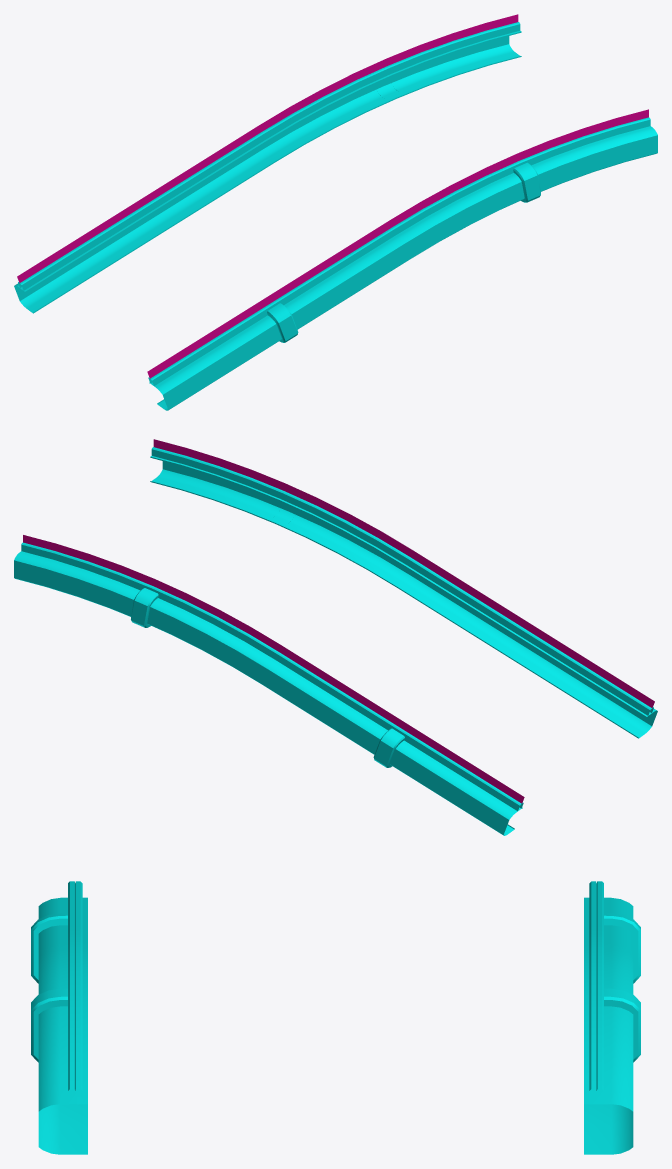
The model's file is Mur_R_20.fbx.
The picture shows the model from 3 angles, top to bottom: view 1: azimuth 30°, elevation 25°; view 2: azimuth 150°, elevation 25°; view 3: azimuth 270°, elevation 25°; orthographic projection. The views are drawn at different scales.
Visible parts, largest first — view 1: polySurface887; view 2: polySurface887; view 3: polySurface887.
Boxes of the visible parts, x1,y1,x2,y2 form: polySurface887: (14,14,657,410); polySurface887: (14,439,657,835); polySurface887: (31,881,640,1154).
Bounding box in the file's own units: 29.22 × 9.92 × 15.38.
